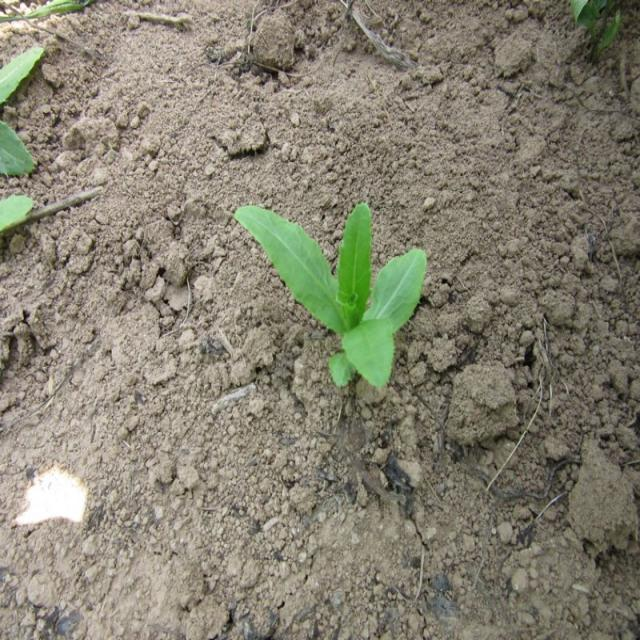cs: (231, 191, 432, 415)
